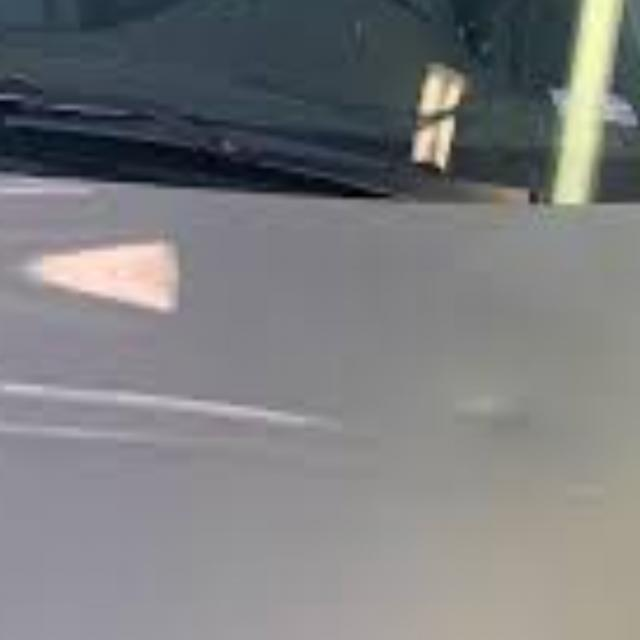dents: (444, 380, 544, 460), (564, 471, 622, 538)
